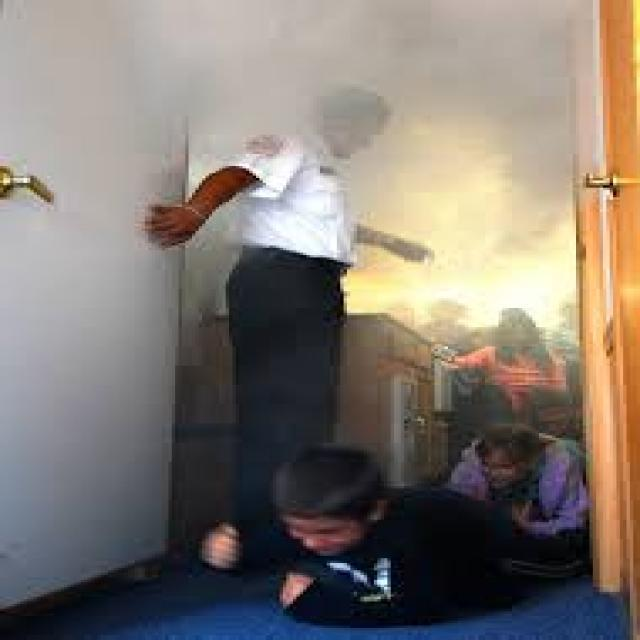Smoke: (175, 2, 590, 258)
